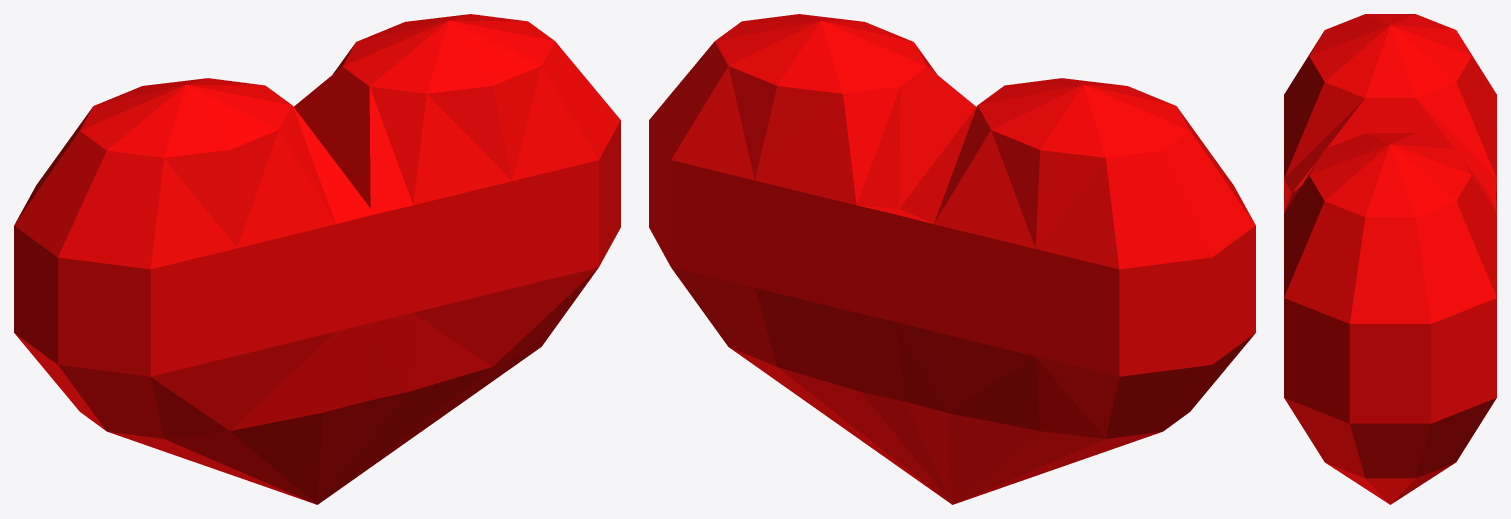
File: heart.fbx
3 views of the same model, side by side, from view 1: azimuth 30°, elevation 25°; view 2: azimuth 150°, elevation 25°; view 3: azimuth 270°, elevation 25° (orthographic). The views are drawn at different scales.
Visible parts, largest first — view 1: Sphere001; view 2: Sphere001; view 3: Sphere001.
Part boxes in pixels (x1,y1,x2,y2): Sphere001: [14, 14, 620, 504]; Sphere001: [649, 14, 1255, 504]; Sphere001: [1284, 14, 1496, 504].
Bounding box in the file's own units: 38.37 × 29.45 × 13.53.
